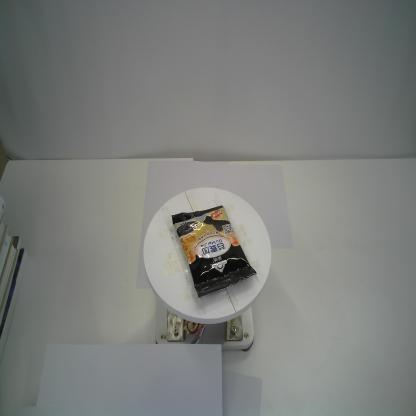Instant Drink: (171, 205, 257, 298)
